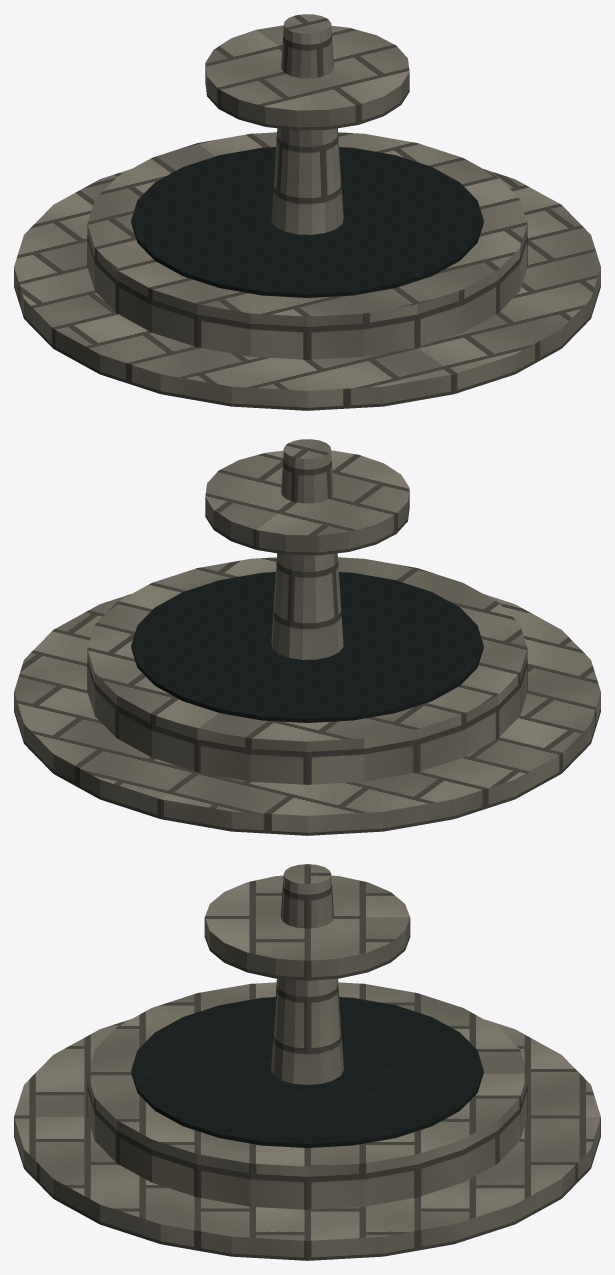
Rendered from SG_Plaza_Fountain_LOD1.fbx.
3 renders of one model, top to bottom at view 1: azimuth 30°, elevation 25°; view 2: azimuth 150°, elevation 25°; view 3: azimuth 270°, elevation 25°, orthographic.
Visible parts, largest first — view 1: SG_Plaza_Fountain_Detail1; view 2: SG_Plaza_Fountain_Detail1; view 3: SG_Plaza_Fountain_Detail1.
Part boxes in pixels (x1,y1,x2,y2): SG_Plaza_Fountain_Detail1: (14,14,600,410); SG_Plaza_Fountain_Detail1: (14,439,600,835); SG_Plaza_Fountain_Detail1: (14,864,600,1260).
Bounding box in the file's own units: 16 × 7.9 × 16.
